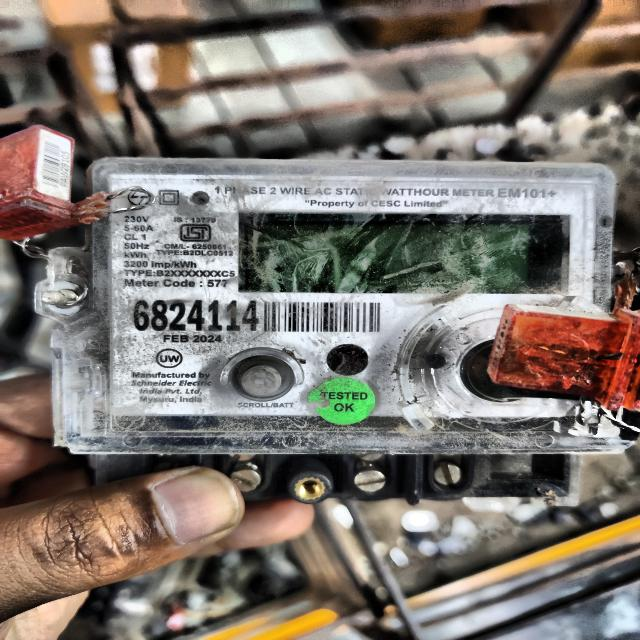Digital: (81, 151, 622, 507)
Reading: (242, 216, 565, 288)
Serial No.: (128, 296, 260, 332)
